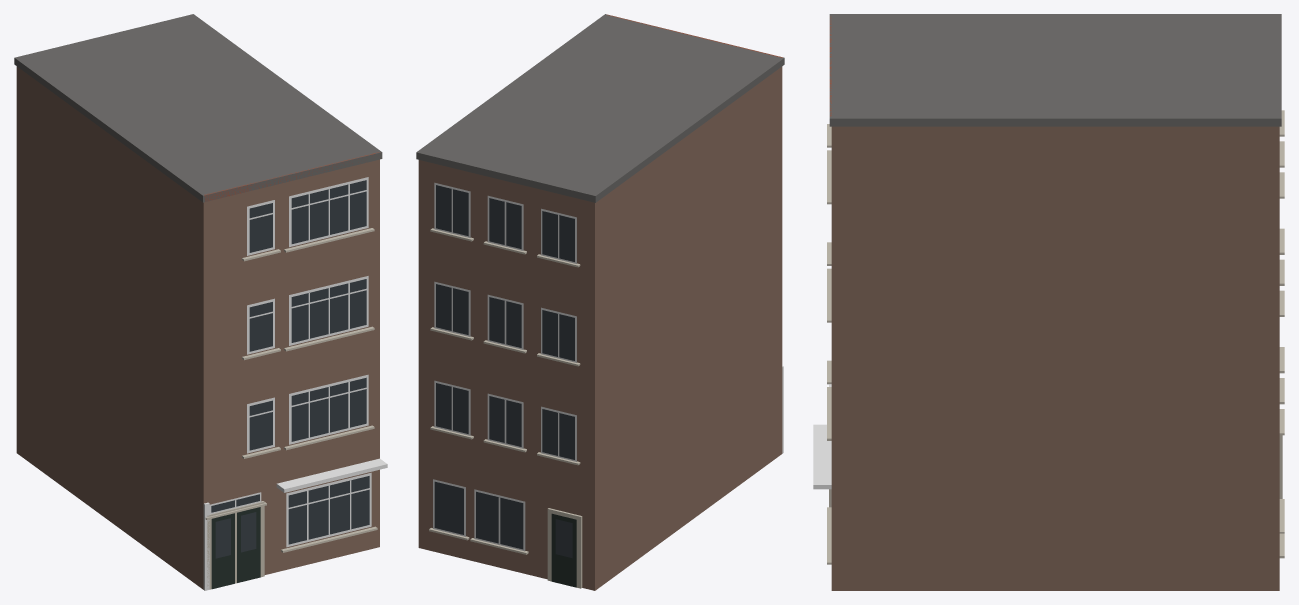
The model's file is we-or-wide__brown__4__flat__long__solid__f0d0__mirror.glb.
The picture shows the model from 3 angles, left to right: view 1: azimuth 30°, elevation 25°; view 2: azimuth 150°, elevation 25°; view 3: azimuth 270°, elevation 25°; orthographic projection. The views are drawn at different scales.
Visible parts, largest first — view 1: we-or-wide__brown__4__flat__long__solid__f0d0__mirror; view 2: we-or-wide__brown__4__flat__long__solid__f0d0__mirror; view 3: we-or-wide__brown__4__flat__long__solid__f0d0__mirror.
Part boxes in pixels (x1,y1,x2,y2): we-or-wide__brown__4__flat__long__solid__f0d0__mirror: [14, 14, 387, 590]; we-or-wide__brown__4__flat__long__solid__f0d0__mirror: [416, 14, 784, 590]; we-or-wide__brown__4__flat__long__solid__f0d0__mirror: [813, 14, 1284, 590].
Bounding box in the file's own units: 6.07 × 12.8 × 11.55.
